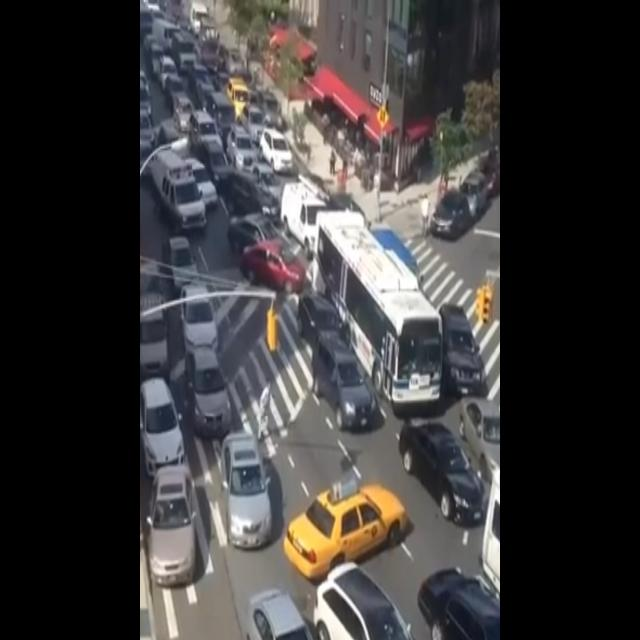Ambulance: (152, 142, 210, 238)
